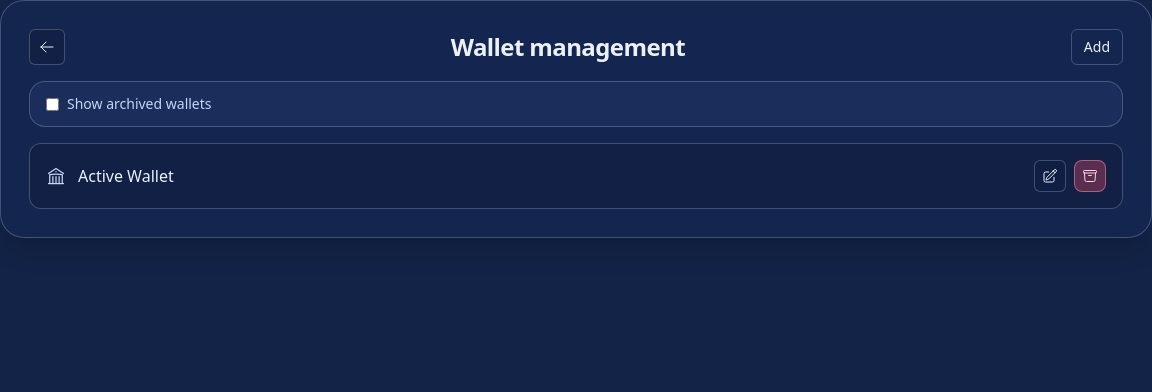
Test case: WalletSettingsPage › hides archived wallets by default and shows them when toggled
This screenshot has width=1152, height=392.
Expected: the text "Active Wallet" is shown, [78, 164, 174, 188]
Click the checkbox labelled "Show archived wallets" at point(52, 104), box [46, 98, 59, 110]
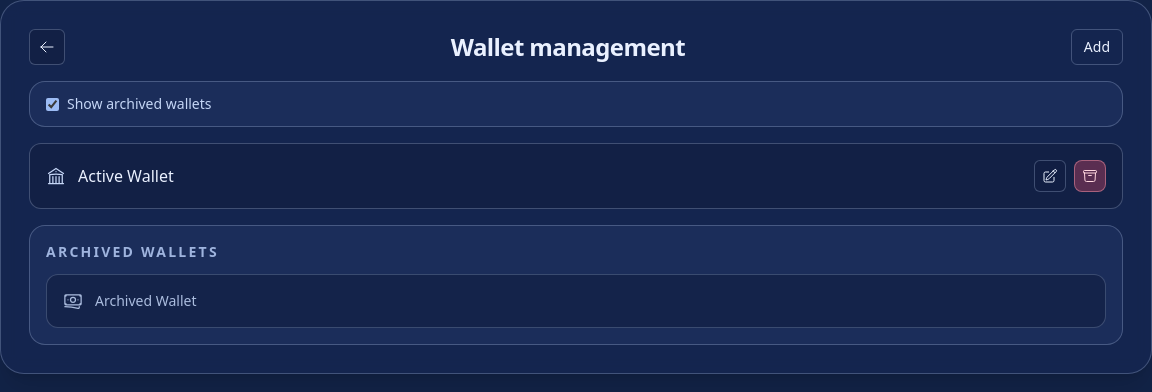
Expected: the text "Archived Wallet" is shown, [95, 291, 196, 311]
